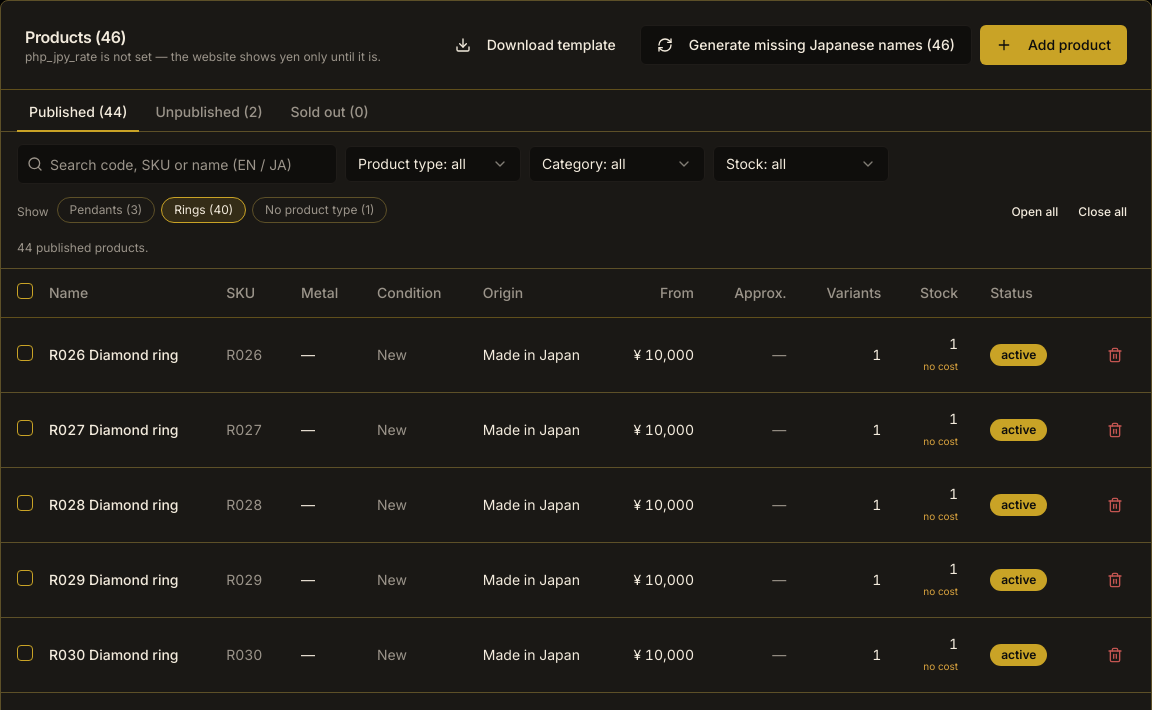
Test: Catalog: product types picked by chip, with paging › a search opens only the types with matches and goes back to page 1; clearing it hides the list
This screenshot has width=1152, height=710.
Later steps or results of the test are not shown.
Type "pendant" into the field with test id "catalog-search-input". click: (177, 164)
box: [17,144,337,184]
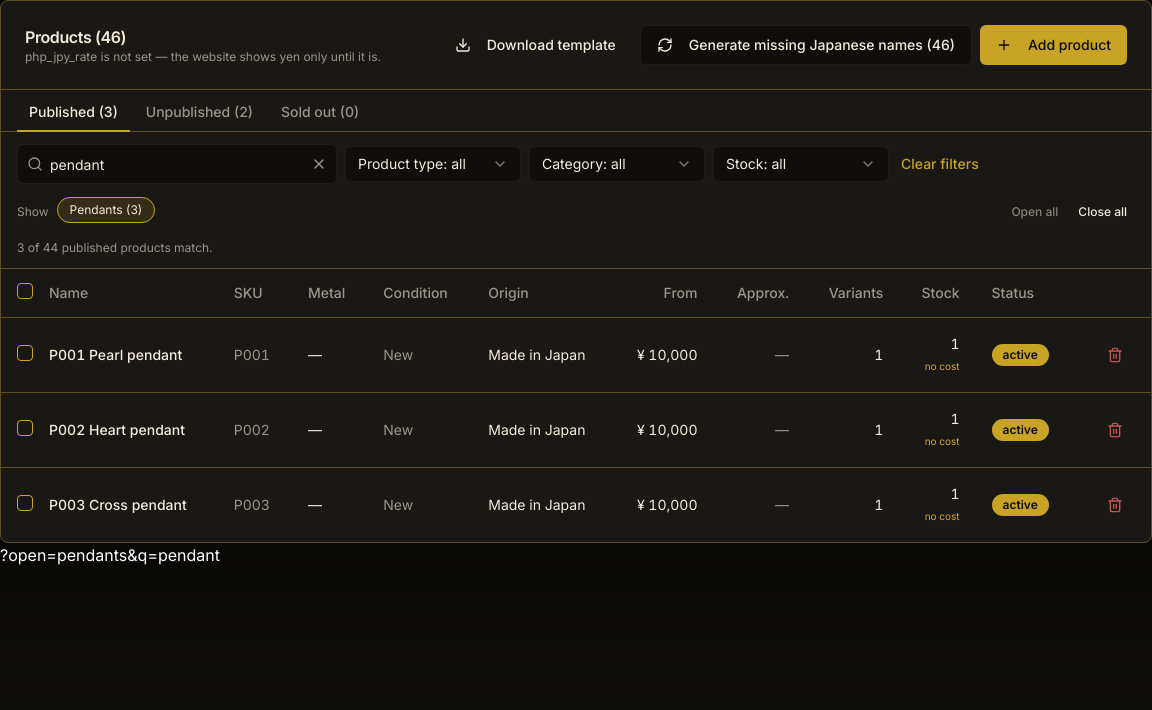
Expected: the number of checkboxes named "Select P001" is 3, [17,344,33,360]; [17,420,33,436]; [17,494,33,510]
Expected: the text with test id "catalog-result-count" reads "3 of 44 published products match.", [17,240,213,255]
